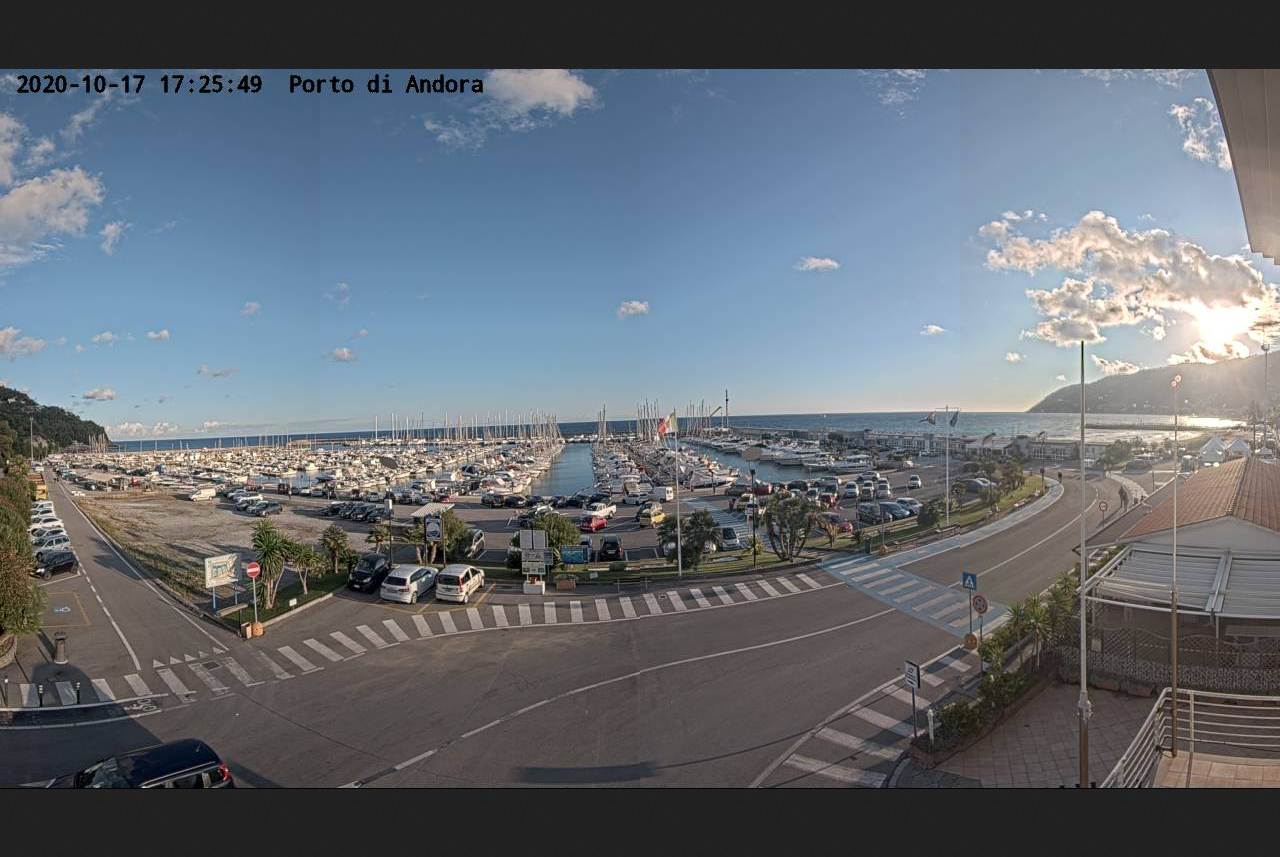maybe: (651, 406, 679, 440)
